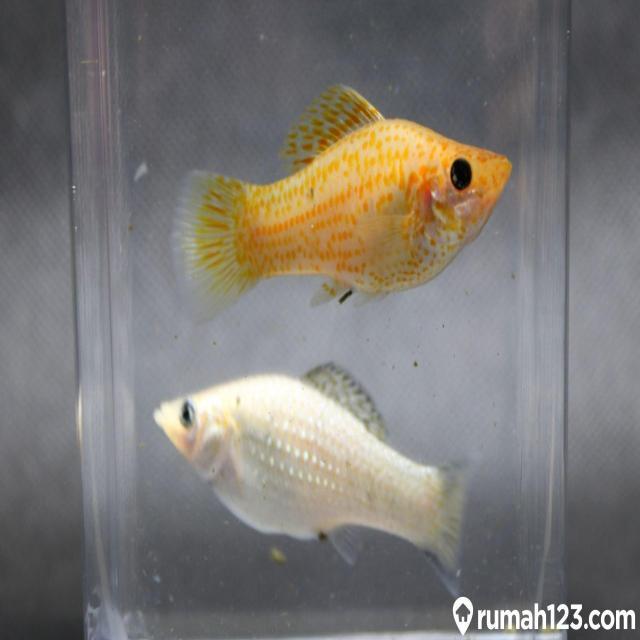PlatyFish: (158, 67, 536, 324), (146, 349, 497, 599)
